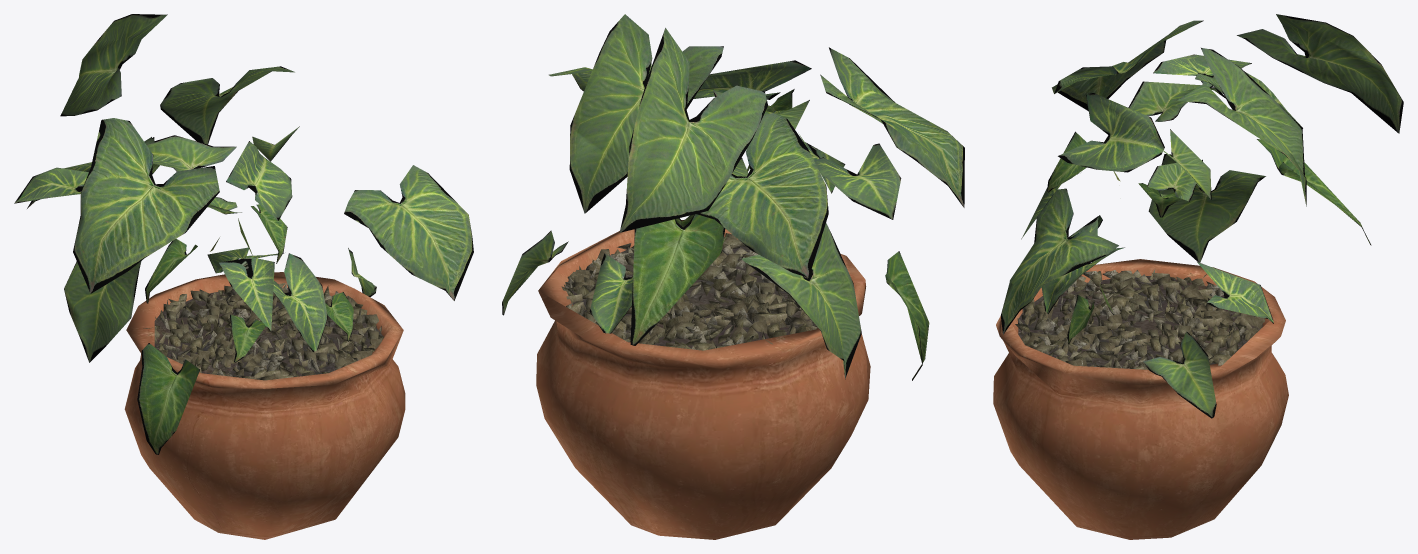
Rendered from plantTall_hq.glb.
The picture shows the model from 3 angles, left to right: view 1: azimuth 30°, elevation 25°; view 2: azimuth 150°, elevation 25°; view 3: azimuth 270°, elevation 25°; orthographic projection. The views are drawn at different scales.
Visible parts, largest first — view 1: potted_plant_02_leaves, potted_plant_02_pot; view 2: potted_plant_02_leaves, potted_plant_02_pot; view 3: potted_plant_02_pot, potted_plant_02_leaves.
Boxes of the visible parts, box(x1,y1,x2,y2) form: potted_plant_02_leaves: box(14, 14, 473, 454); potted_plant_02_pot: box(124, 272, 405, 539); potted_plant_02_leaves: box(502, 14, 964, 380); potted_plant_02_pot: box(536, 220, 870, 539); potted_plant_02_pot: box(993, 259, 1288, 539); potted_plant_02_leaves: box(1000, 14, 1403, 418).
Bounding box in the file's own units: 0.7012 × 0.8395 × 0.6553.
Materials: 2 (2 with a texture image).
